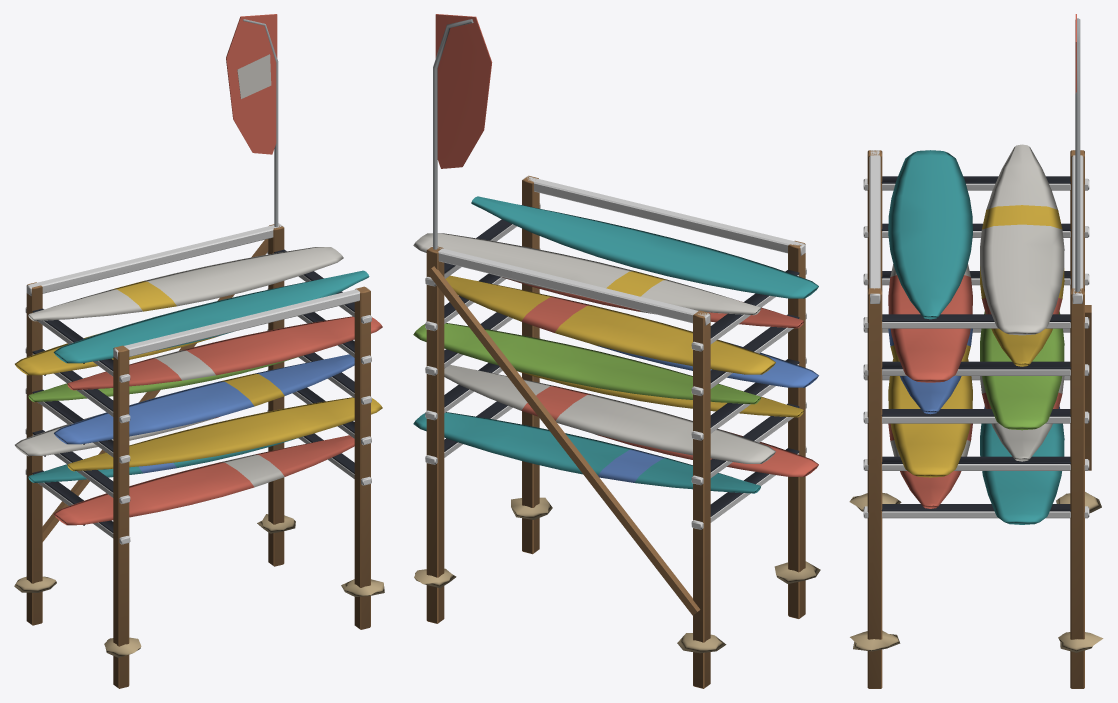
The model's file is SurfRack.fbx.
The picture shows the model from 3 angles, left to right: view 1: azimuth 30°, elevation 25°; view 2: azimuth 150°, elevation 25°; view 3: azimuth 270°, elevation 25°; orthographic projection. The views are drawn at different scales.
Parts seen in each view (by area): view 1: SurfRack; view 2: SurfRack; view 3: SurfRack.
Boxes of the visible parts, x1=… form: SurfRack: x1=14, y1=14, x2=384, y2=688; SurfRack: x1=413, y1=14, x2=820, y2=688; SurfRack: x1=849, y1=14, x2=1103, y2=688.
Size of the model in its own units: 2.6 by 4.4 by 1.56.
